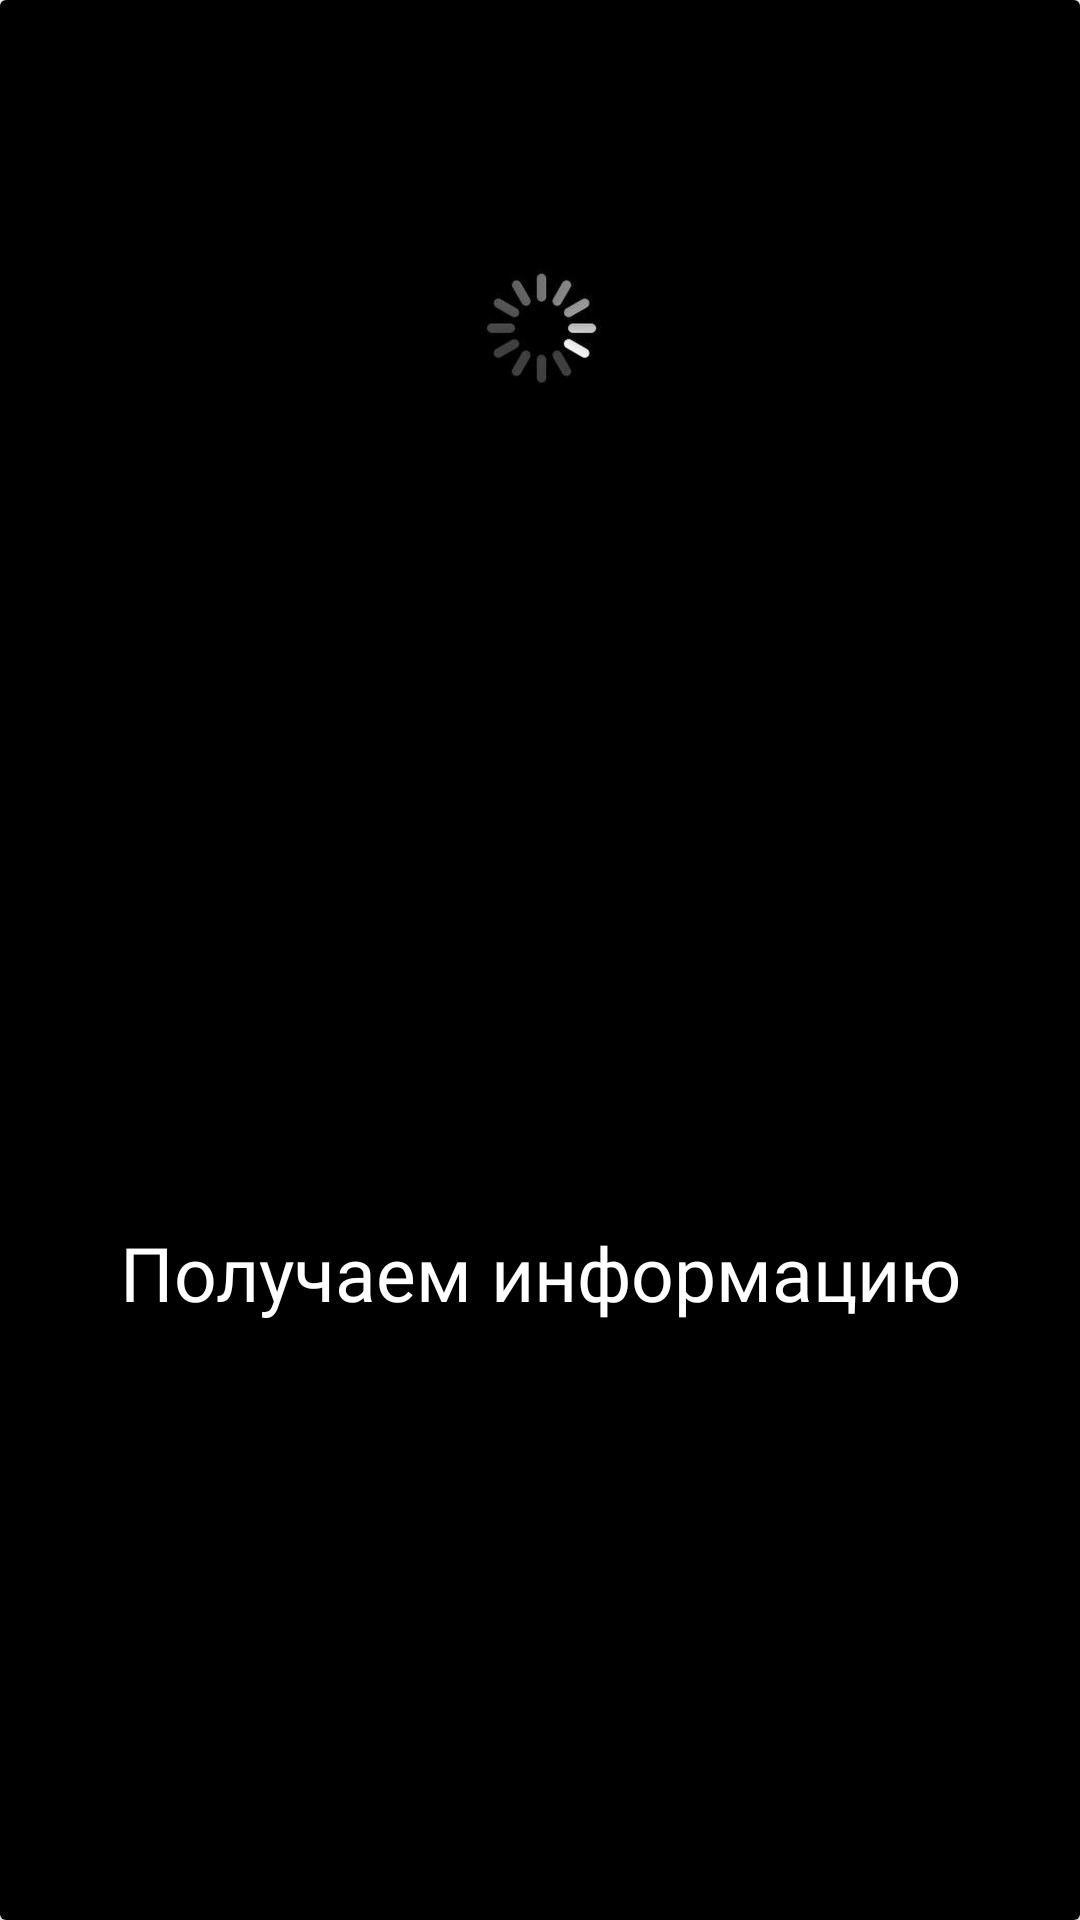

Point at icon controls on the screen. Image size 1080w x 1920h, points as (x=x, y=y).
load: (x=542, y=328)
